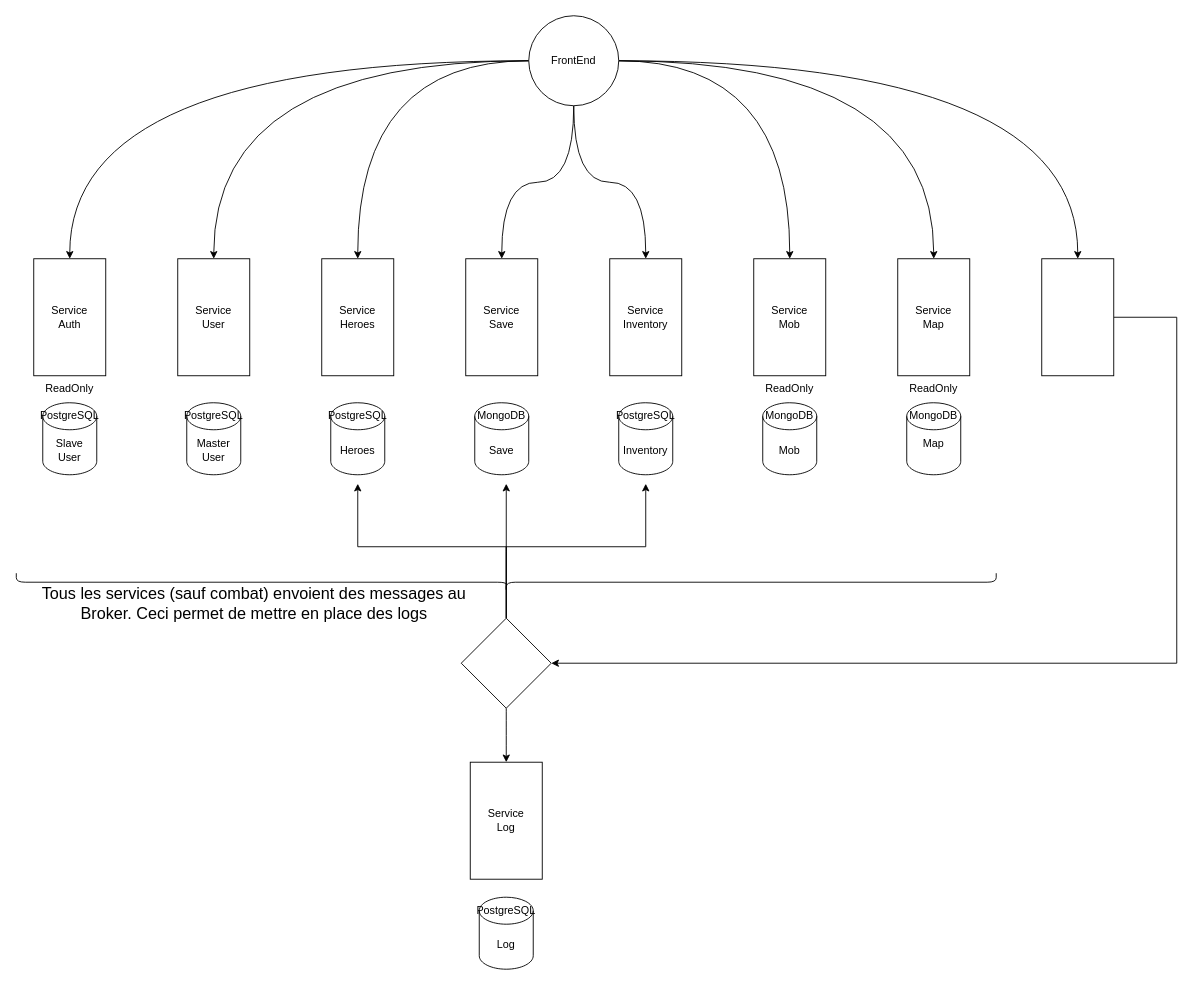
Image size: 1200x986. Some labels were removed from this diagram. Each missing label, with the centre of its shape:
"Broker RabbitMQ" belongs at point (505, 662).
"Service Combat" belongs at point (1077, 317).
